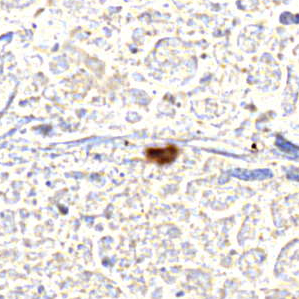Lymphocyte: (144, 143, 179, 166)
